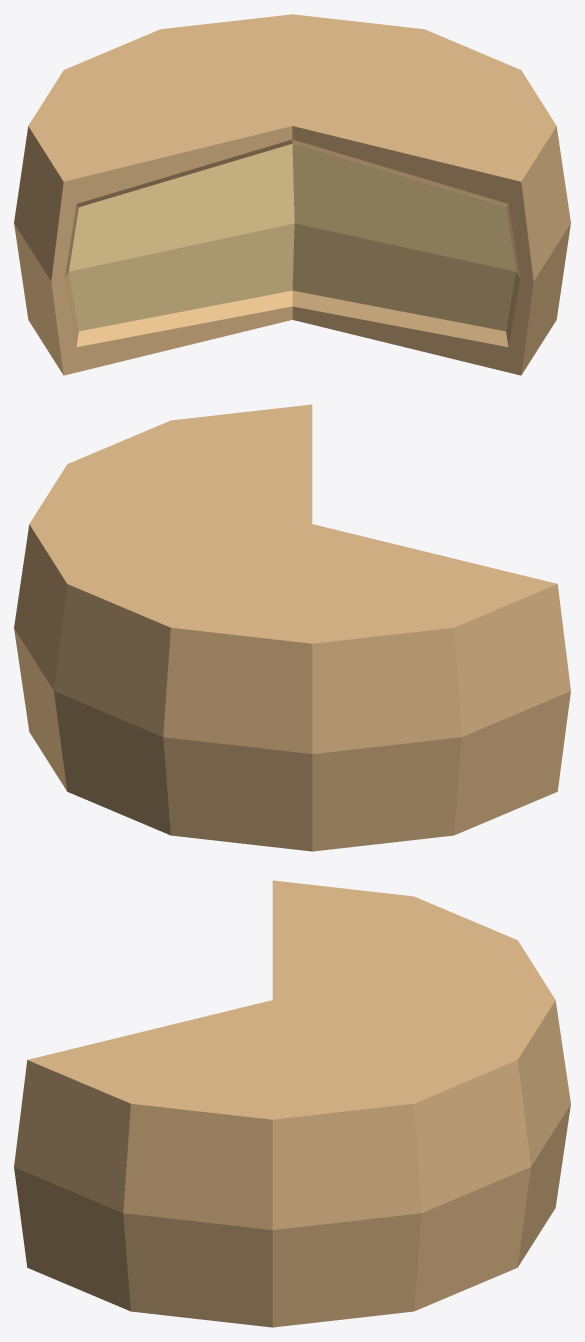
File: CutCheeseWheel.glb
3 views of the same model, one above another, from view 1: azimuth 30°, elevation 25°; view 2: azimuth 150°, elevation 25°; view 3: azimuth 270°, elevation 25° (orthographic). The views are drawn at different scales.
Visible parts, largest first — view 1: CutCheeseWheel; view 2: CutCheeseWheel; view 3: CutCheeseWheel.
Part boxes in pixels (x1,y1,x2,y2): CutCheeseWheel: (14, 14, 570, 375); CutCheeseWheel: (14, 404, 570, 851); CutCheeseWheel: (14, 880, 570, 1327).
Bounding box in the file's own units: 0.1253 × 0.0481 × 0.1169.
